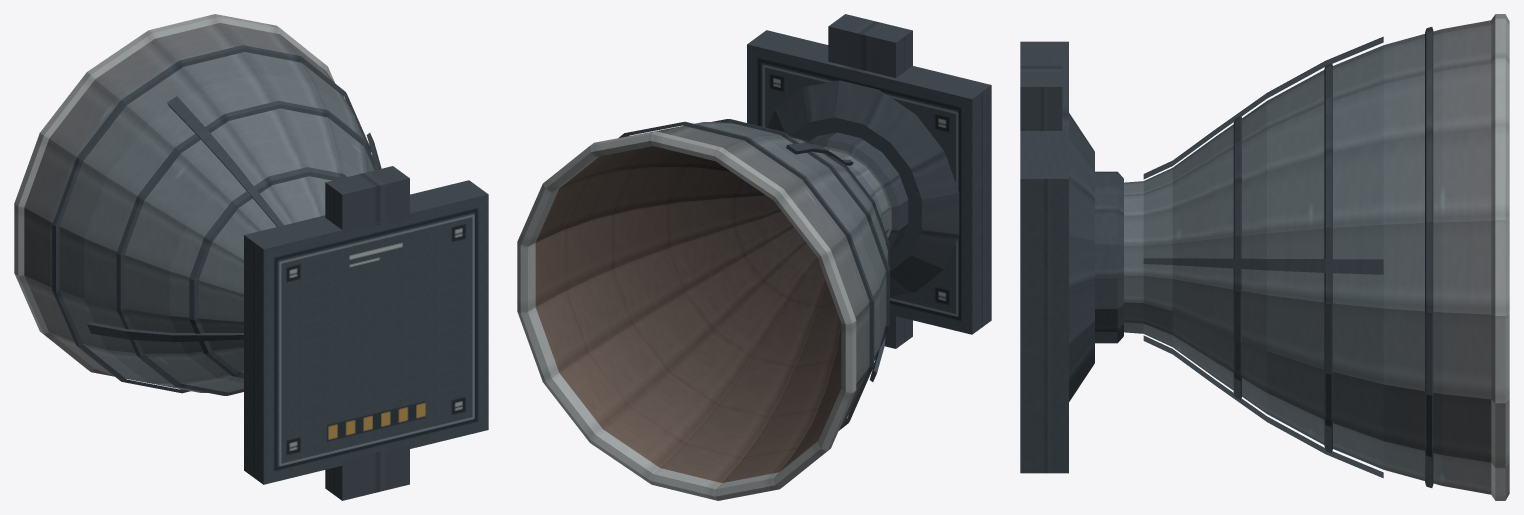
File: shuttle_thruster.obj
3 views of the same model, side by side, from view 1: azimuth 30°, elevation 25°; view 2: azimuth 150°, elevation 25°; view 3: azimuth 270°, elevation 25° (orthographic). The views are drawn at different scales.
Parts seen in each view (by area): view 1: bell_sixteen_sided_curved_shell, hull_mounting_plate, exit_rolled_thin_lip, reinforcement_ring_3_2, upper_mounting_lug, reinforcement_ring_6_3, lower_mounting_lug, reinforcement_ring_9_1, longitudinal_support_2, longitudinal_support_3; view 2: bell_continuous_recessed_liner, hull_mounting_plate, exit_rolled_thin_lip, bell_sixteen_sided_curved_shell, mount_tapered_adapter, upper_mounting_lug, neck_mounting_collar, reinforcement_ring_3_2, reinforcement_ring_6_3, lower_mounting_lug; view 3: bell_sixteen_sided_curved_shell, hull_mounting_plate, exit_rolled_thin_lip, mount_tapered_adapter, neck_mounting_collar, reinforcement_ring_3_2, upper_mounting_lug, reinforcement_ring_6_3, longitudinal_support_1, reinforcement_ring_9_1, longitudinal_support_2, longitudinal_support_4.
Boxes of the visible parts, x1,y1,x2,y2 form: bell_sixteen_sided_curved_shell: [24, 23, 374, 392]; hull_mounting_plate: [244, 180, 488, 484]; exit_rolled_thin_lip: [14, 14, 334, 380]; reinforcement_ring_3_2: [52, 45, 371, 393]; upper_mounting_lug: [325, 166, 409, 234]; reinforcement_ring_6_3: [116, 100, 375, 395]; lower_mounting_lug: [325, 444, 409, 500]; reinforcement_ring_9_1: [189, 167, 346, 378]; longitudinal_support_2: [167, 96, 283, 226]; longitudinal_support_3: [87, 322, 243, 342]; bell_continuous_recessed_liner: [535, 146, 841, 482]; hull_mounting_plate: [747, 30, 991, 334]; exit_rolled_thin_lip: [517, 131, 856, 500]; bell_sixteen_sided_curved_shell: [656, 122, 888, 429]; mount_tapered_adapter: [767, 80, 959, 296]; upper_mounting_lug: [828, 14, 912, 77]; neck_mounting_collar: [809, 132, 908, 251]; reinforcement_ring_3_2: [619, 121, 874, 430]; reinforcement_ring_6_3: [712, 119, 889, 360]; lower_mounting_lug: [884, 315, 912, 348]; bell_sixteen_sided_curved_shell: [1124, 20, 1491, 494]; hull_mounting_plate: [1020, 41, 1068, 473]; exit_rolled_thin_lip: [1491, 14, 1509, 500]; mount_tapered_adapter: [1069, 113, 1094, 401]; neck_mounting_collar: [1095, 171, 1123, 343]; reinforcement_ring_3_2: [1425, 27, 1433, 487]; upper_mounting_lug: [1020, 45, 1062, 130]; reinforcement_ring_6_3: [1324, 63, 1332, 453]; longitudinal_support_1: [1143, 258, 1383, 274]; reinforcement_ring_9_1: [1233, 116, 1241, 400]; longitudinal_support_2: [1143, 36, 1383, 179]; longitudinal_support_4: [1143, 335, 1383, 478].
Size of the model in its own units: 0.9305 by 0.9305 by 0.9425.
